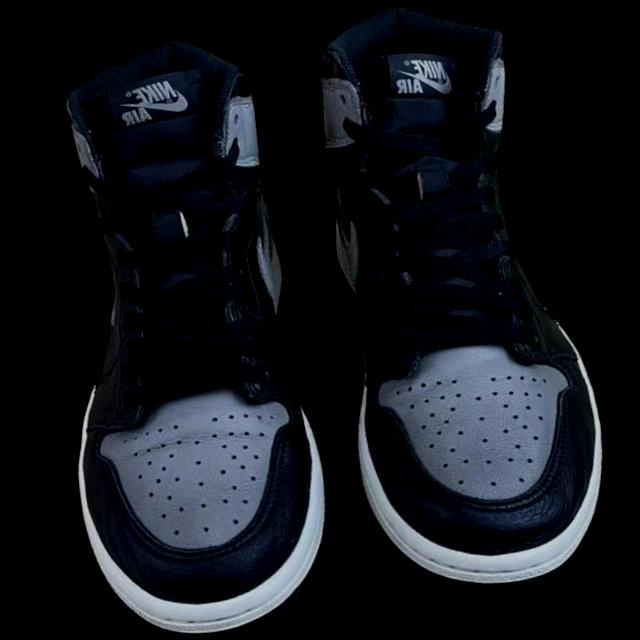nike_original_jordan: (18, 26, 352, 640), (290, 0, 625, 603)
